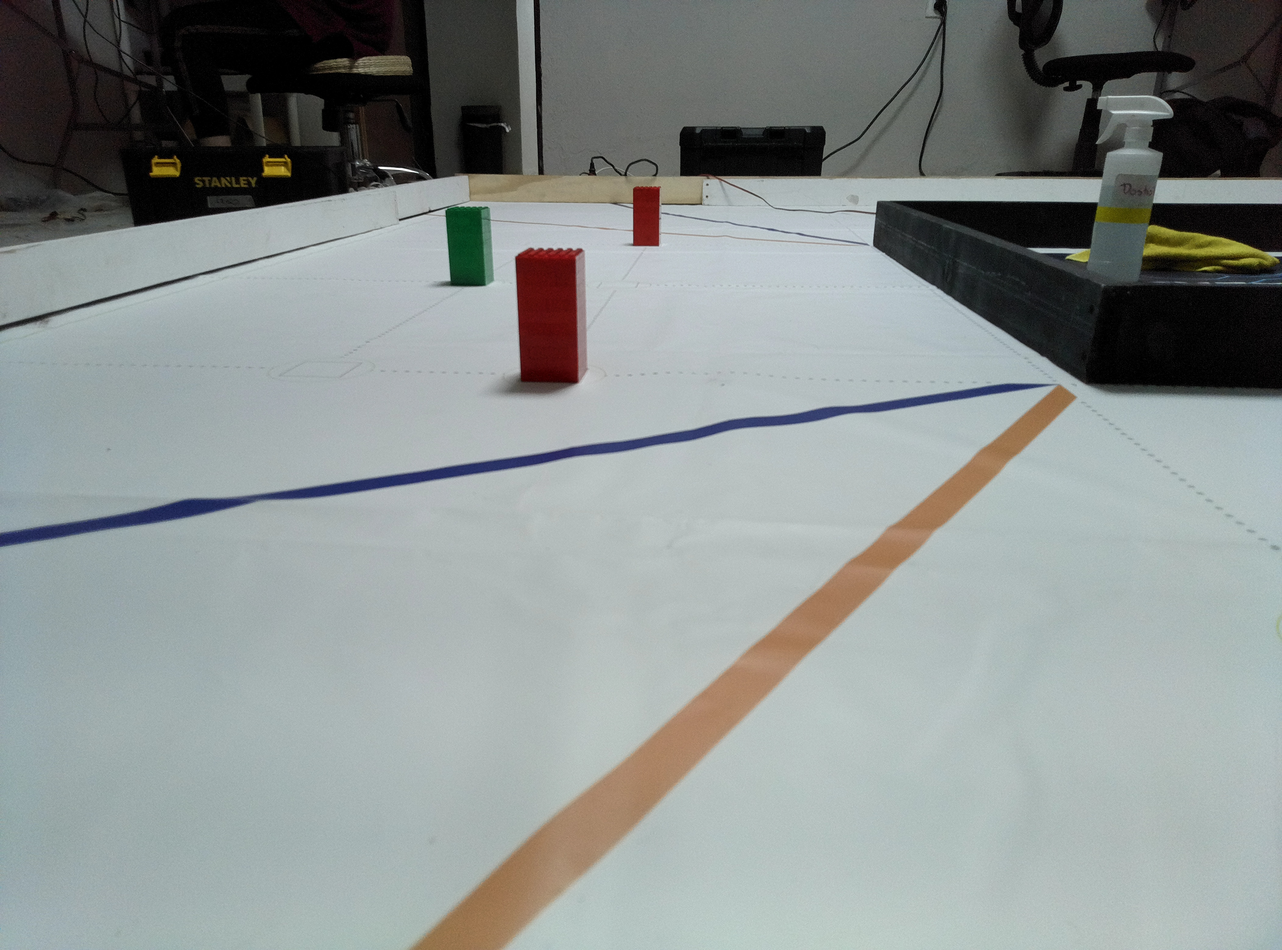greenbox: (444, 206, 496, 288)
redbox: (512, 245, 591, 387), (631, 184, 661, 248)
